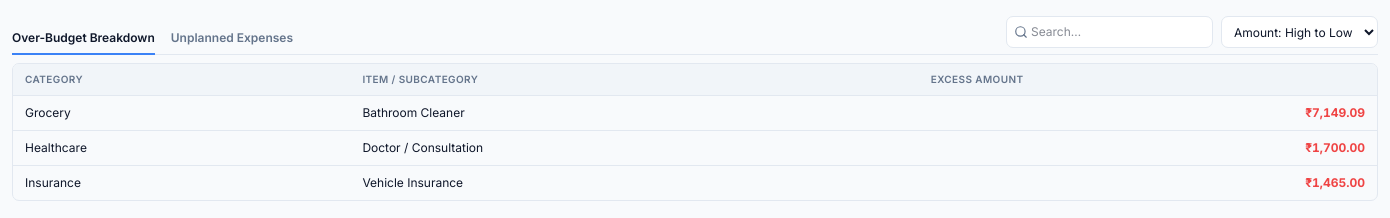
Test: BudgetFlagsTableInner › search › filters rows by category or item, case-insensitively
The image size is (1390, 218).
Type "health" into the field named "Search category or item" at point(1110, 32), box x1=1006 y1=16 x2=1213 y2=48
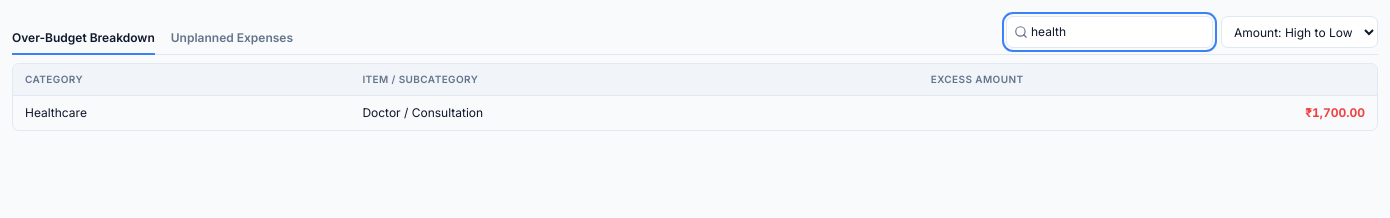
Check: the text "Doctor / Consultation" is shown, box x1=350 y1=96 x2=919 y2=130
Check: the text "Bathroom Cleaner" is gone
Check: the text "Vehicle Insurance" is gone
